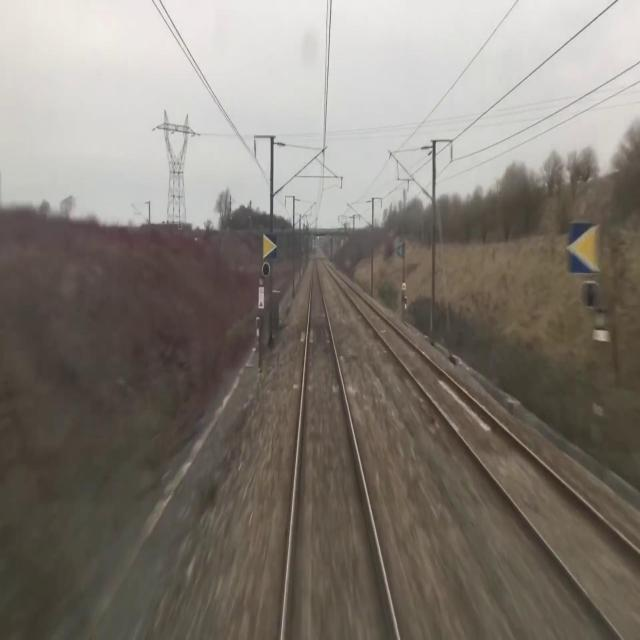rail-track: (322, 256, 640, 639), (285, 256, 397, 639)
